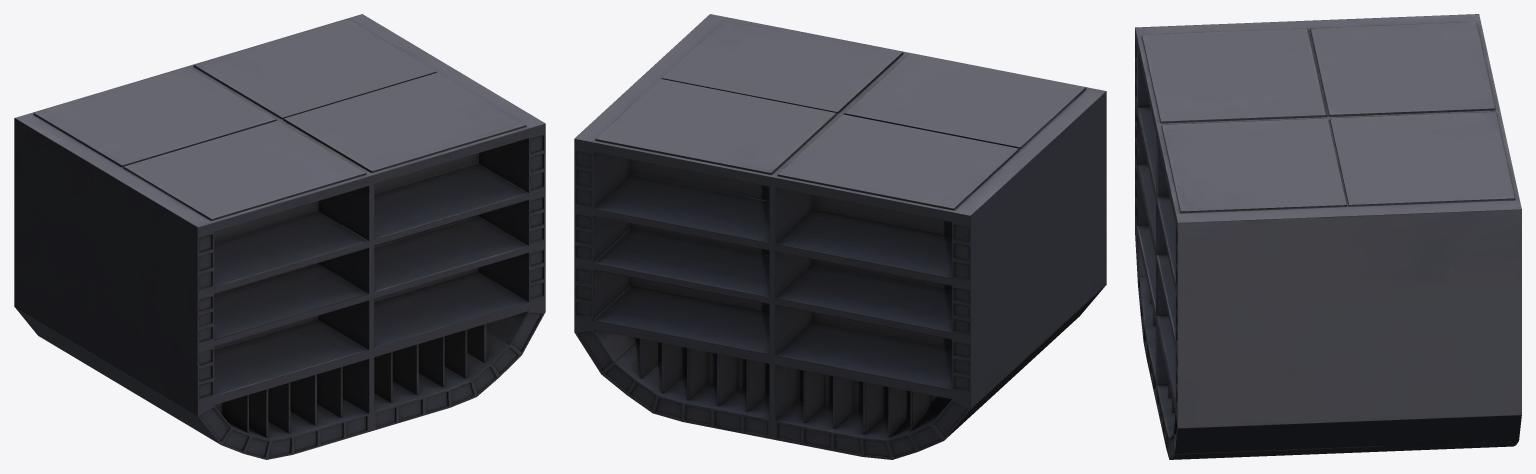
The model's file is Block_002.glb.
3 renders of one model, left to right at view 1: azimuth 30°, elevation 25°; view 2: azimuth 150°, elevation 25°; view 3: azimuth 270°, elevation 25°, orthographic. The views are drawn at different scales.
Visible parts, largest first — view 1: Block_002; view 2: Block_002; view 3: Block_002.
Boxes of the visible parts, x1,y1,x2,y2 form: Block_002: [14, 14, 545, 459]; Block_002: [574, 14, 1106, 459]; Block_002: [1135, 14, 1521, 459].
Size of the model in its own units: 32.65 by 20.46 by 25.56.
Materials: 1 (1 with a texture image).
